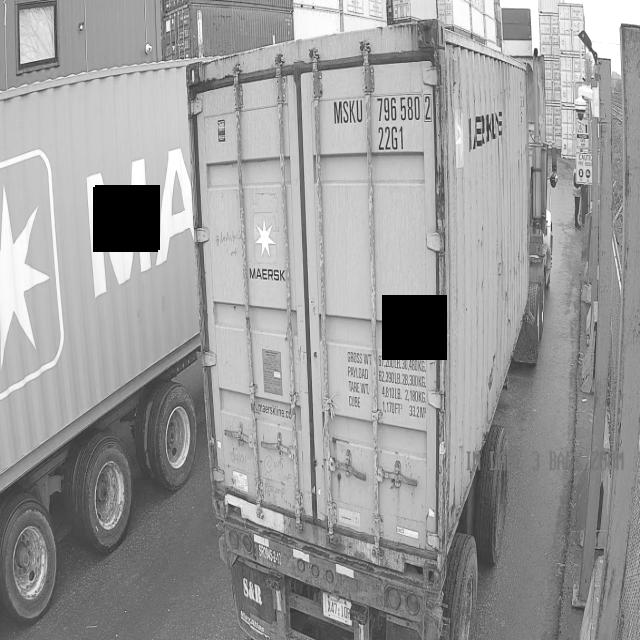container_company_logo: (249, 212, 285, 281)
container_number: (324, 81, 458, 161)
driver: (569, 162, 581, 236)
license_plate: (323, 593, 351, 625)
other_container_info: (345, 340, 430, 422)
truck_with_container: (187, 20, 557, 640), (0, 62, 200, 624)
